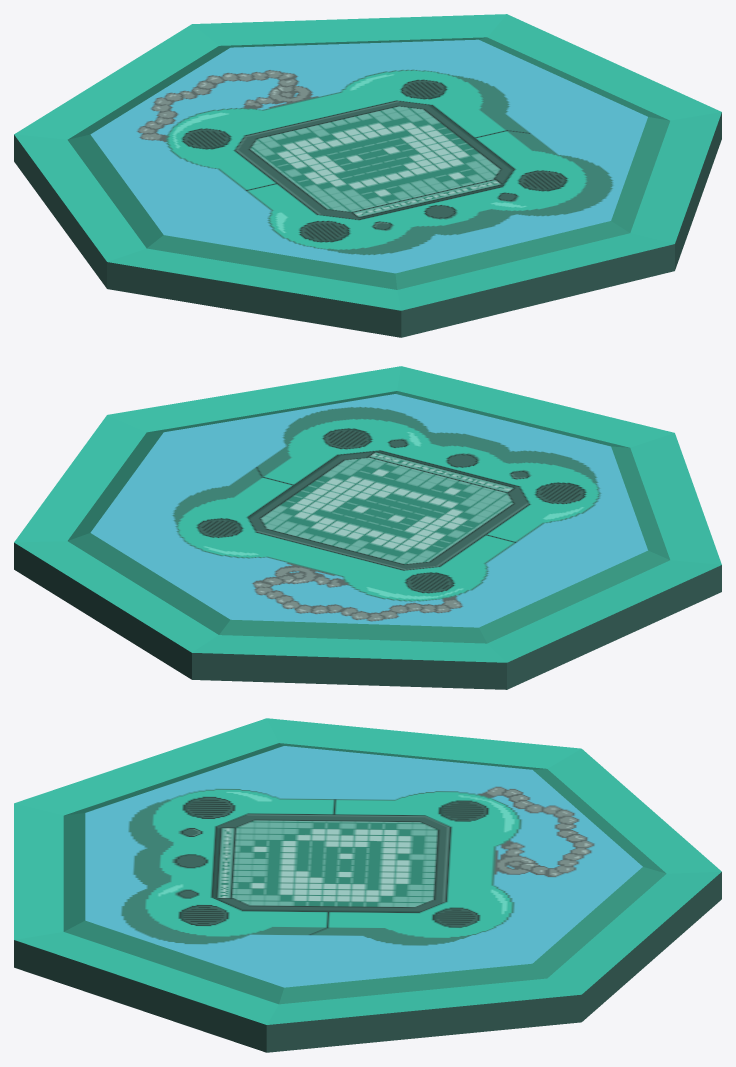
File: E-Pet Coin 1.fbx
The picture shows the model from 3 angles, top to bottom: view 1: azimuth 30°, elevation 25°; view 2: azimuth 150°, elevation 25°; view 3: azimuth 270°, elevation 25°; orthographic projection. The views are drawn at different scales.
Parts seen in each view (by area): view 1: (Cyan) E-Pet Coin; view 2: (Cyan) E-Pet Coin; view 3: (Cyan) E-Pet Coin.
Part boxes in pixels (<box>): (Cyan) E-Pet Coin: <box>14,14,721,337</box>; (Cyan) E-Pet Coin: <box>14,366,721,689</box>; (Cyan) E-Pet Coin: <box>14,718,721,1052</box>.
Size of the model in its own units: 189 by 10.76 by 184.
